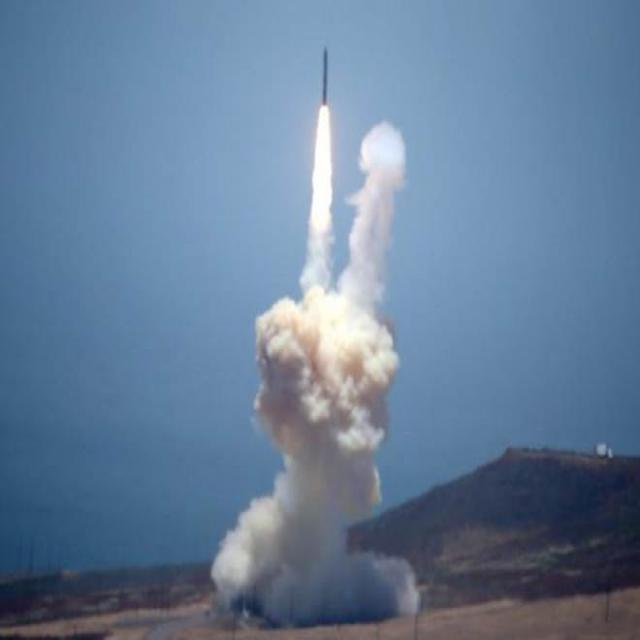missile: (318, 42, 333, 111)
